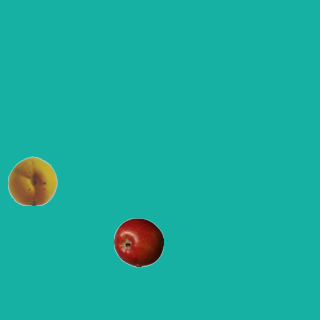Apple Braeburn: (113, 217, 163, 267)
Peach 2: (7, 155, 57, 205)
